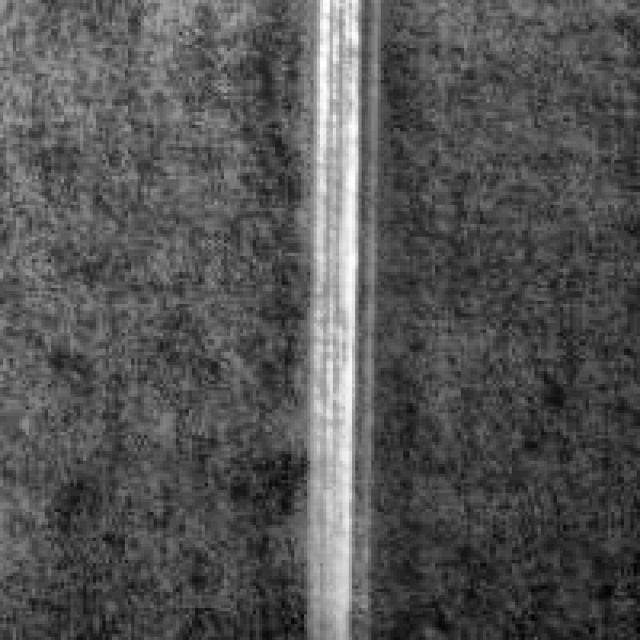Inclusion: (294, 0, 388, 579)
